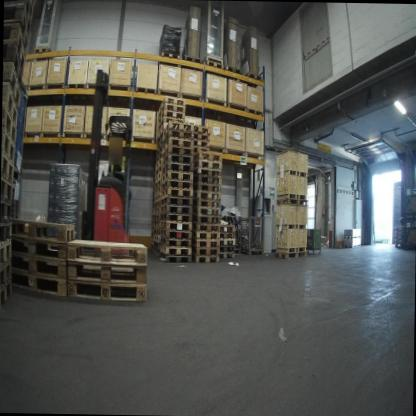forklift: (73, 65, 143, 261)
pallet: (65, 235, 148, 267), (66, 275, 148, 304), (9, 269, 70, 298), (67, 260, 149, 281), (10, 234, 76, 260), (9, 253, 72, 276), (12, 218, 75, 239), (5, 5, 28, 57), (4, 30, 28, 76), (2, 41, 24, 89), (4, 0, 33, 33), (2, 61, 22, 104), (156, 107, 186, 128), (2, 90, 19, 127), (156, 93, 185, 114), (2, 107, 17, 146), (1, 129, 16, 167), (161, 121, 191, 140), (157, 102, 185, 122), (162, 137, 191, 156), (0, 261, 15, 297), (158, 242, 192, 257), (159, 169, 193, 184), (156, 116, 184, 134), (159, 186, 193, 200), (0, 240, 14, 272), (161, 195, 193, 208), (0, 220, 14, 249), (1, 152, 14, 183), (162, 146, 193, 159), (35, 43, 55, 63), (0, 282, 13, 312), (273, 248, 308, 259), (1, 172, 14, 201), (159, 229, 193, 240), (158, 213, 192, 224), (161, 180, 192, 192), (162, 131, 193, 143), (193, 156, 221, 169), (157, 221, 193, 231), (162, 162, 192, 174), (244, 71, 263, 89), (162, 154, 193, 165), (193, 174, 223, 185), (191, 237, 221, 248), (275, 196, 308, 206), (159, 237, 191, 247), (159, 203, 191, 213), (0, 196, 13, 220), (192, 151, 223, 161), (182, 54, 204, 68), (191, 220, 219, 231), (157, 254, 191, 263), (193, 204, 220, 215), (159, 50, 180, 64), (189, 254, 218, 264), (204, 56, 223, 71), (191, 230, 219, 240), (189, 247, 220, 256), (192, 213, 219, 223), (192, 122, 211, 136), (192, 191, 221, 200), (192, 184, 222, 192), (223, 64, 241, 76), (194, 199, 221, 207), (194, 167, 222, 174), (216, 253, 234, 263), (191, 131, 210, 140), (193, 138, 211, 147), (218, 224, 235, 233), (218, 244, 234, 253), (217, 238, 235, 245), (153, 177, 162, 191), (155, 143, 163, 157), (218, 232, 235, 238), (156, 126, 164, 138), (155, 152, 163, 163), (155, 172, 163, 183), (155, 158, 161, 171), (154, 184, 161, 195), (190, 147, 209, 151), (153, 206, 161, 215), (154, 166, 161, 176), (153, 200, 160, 210), (156, 140, 162, 150), (153, 240, 159, 250), (153, 213, 160, 221), (153, 235, 160, 243), (153, 249, 159, 258), (154, 193, 159, 203), (151, 221, 159, 227), (152, 227, 160, 233), (157, 134, 162, 142)
stillage: (13, 79, 32, 178), (8, 169, 26, 229)
